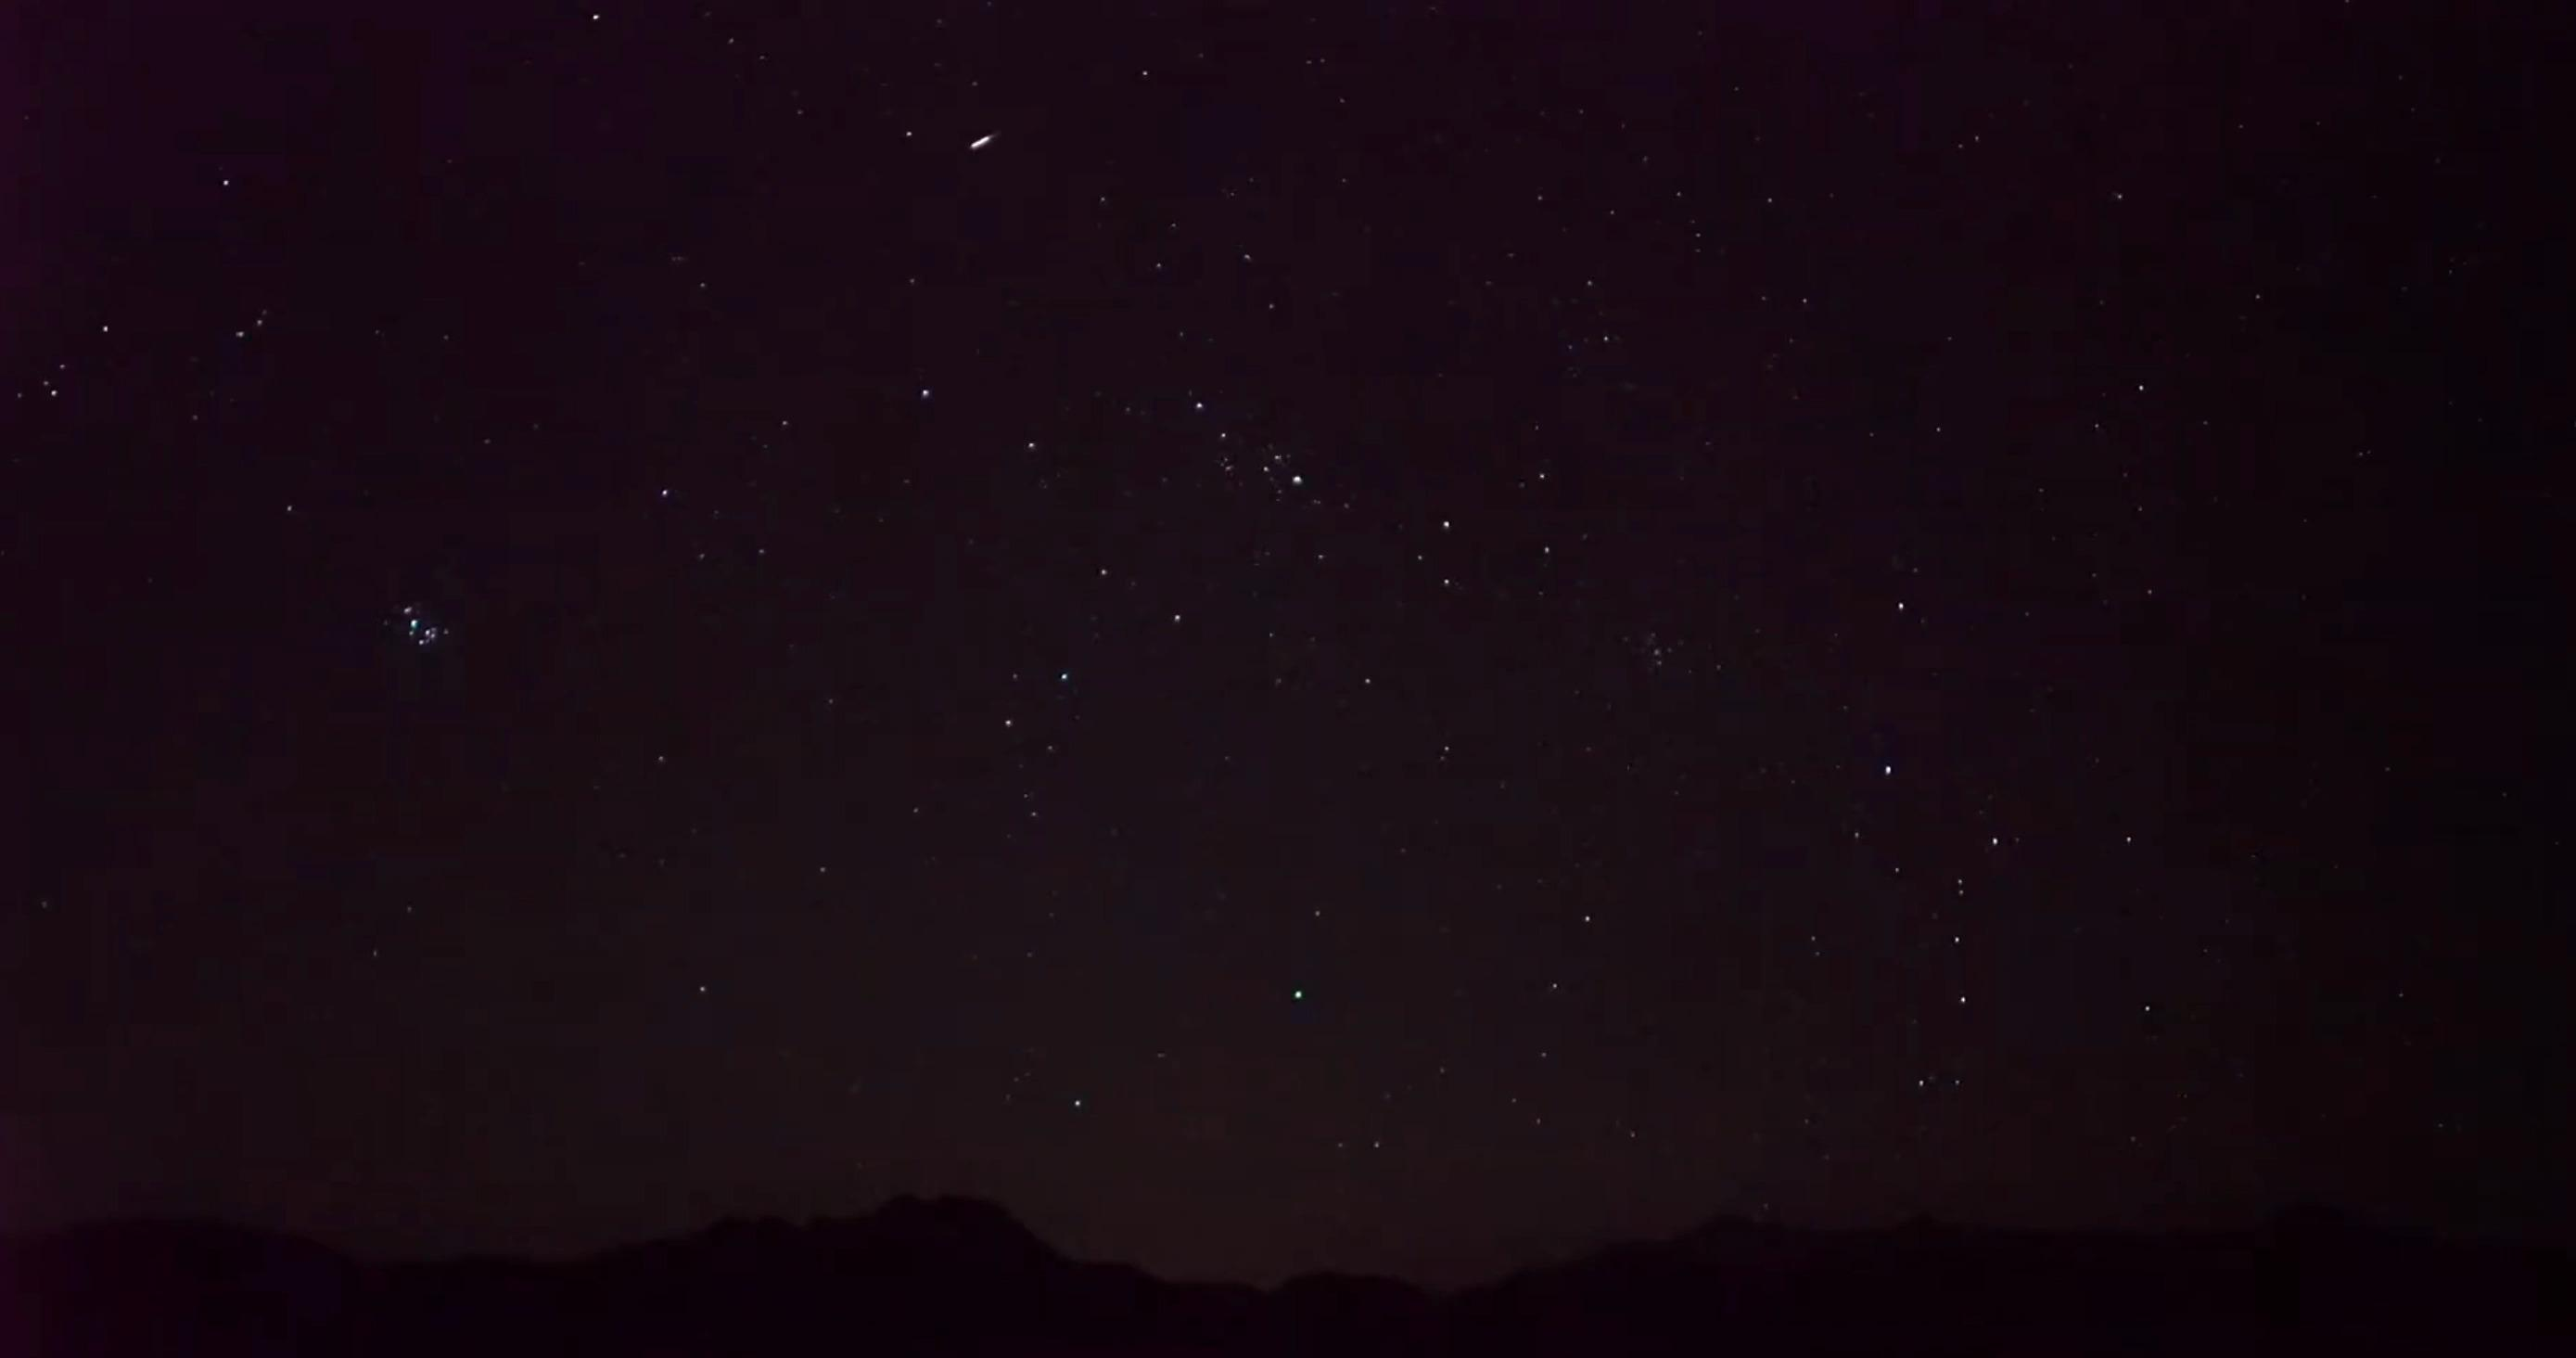meteorite: (952, 124, 1019, 162)
